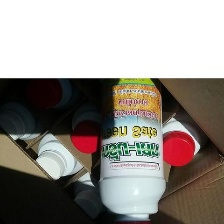insecticide: (97, 64, 165, 224), (67, 134, 136, 222), (153, 92, 220, 170), (62, 79, 121, 159), (31, 113, 97, 183), (0, 86, 55, 146), (26, 60, 86, 113)
